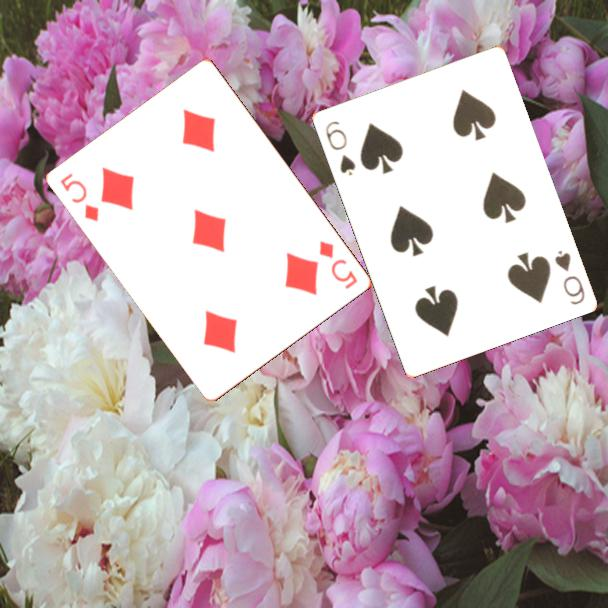d05: (316, 237, 361, 292), (57, 170, 102, 225)
s06: (321, 117, 358, 178), (551, 247, 587, 308)
